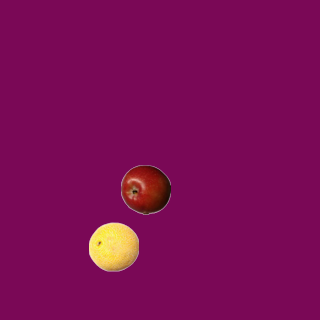Apple Braeburn: (120, 164, 170, 214)
Cantaloupe 1: (88, 221, 138, 271)
